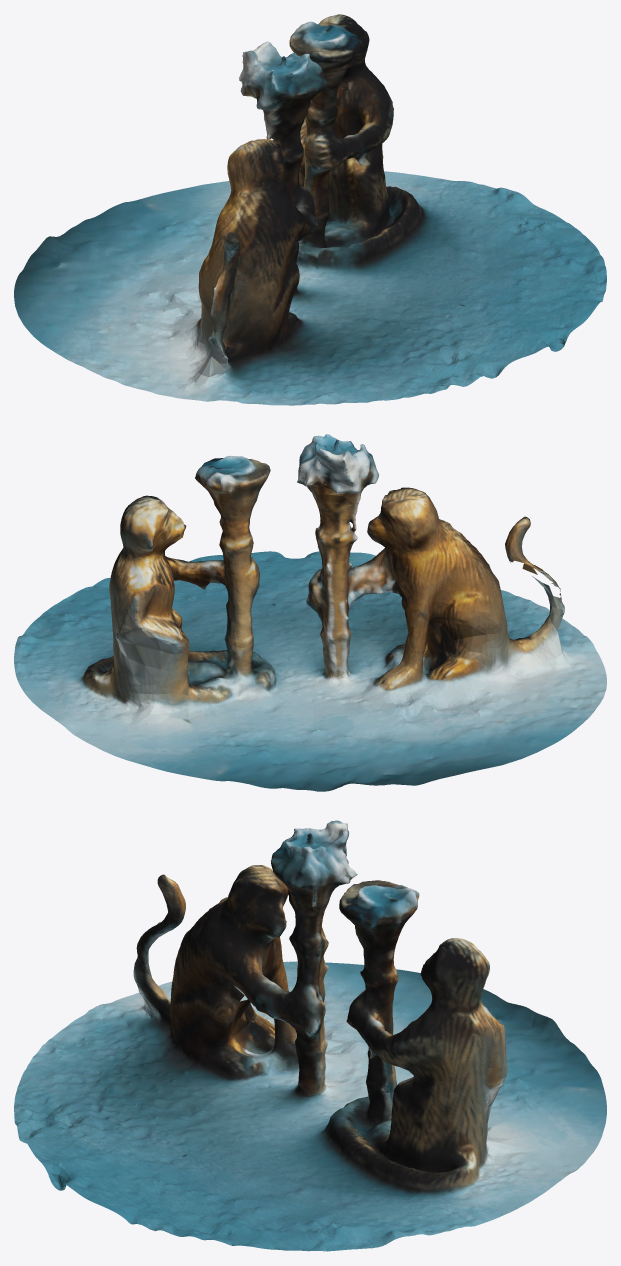
Rendered from scan-4k.glb.
The picture shows the model from 3 angles, top to bottom: view 1: azimuth 30°, elevation 25°; view 2: azimuth 150°, elevation 25°; view 3: azimuth 270°, elevation 25°; orthographic projection. The views are drawn at different scales.
Visible parts, largest first — view 1: mesh; view 2: mesh; view 3: mesh.
Part boxes in pixels (x1,y1,x2,y2): mesh: (14, 14, 606, 405); mesh: (14, 434, 606, 791); mesh: (14, 820, 606, 1251).
Bounding box in the file's own units: 0.3293 × 0.1501 × 0.2942.
1 material, 1 textured.
